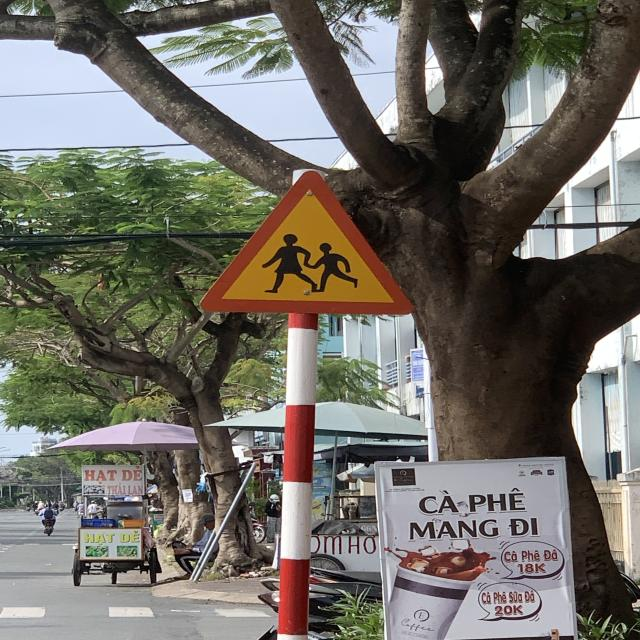Vong_Xuyen: (198, 171, 414, 313)
